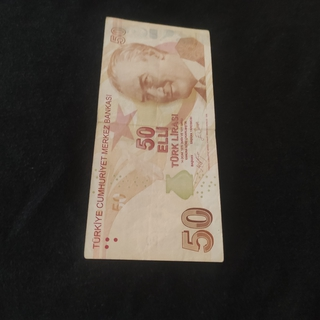50TLFront: (83, 16, 224, 263)
